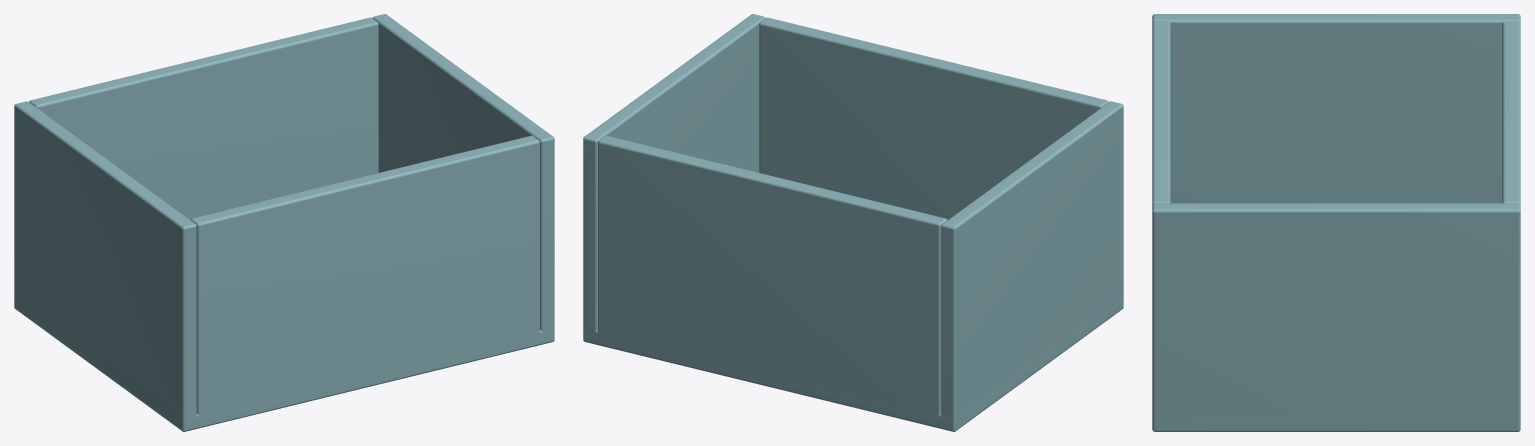
The model's file is BASKET.glb.
The picture shows the model from 3 angles, left to right: view 1: azimuth 30°, elevation 25°; view 2: azimuth 150°, elevation 25°; view 3: azimuth 270°, elevation 25°; orthographic projection. The views are drawn at different scales.
Visible parts, largest first — view 1: BASKET/0003_panel, BASKET/0004_panel, BASKET/0001_panel, BASKET/0002_panel, BASKET/0000_panel; view 2: BASKET/0004_panel, BASKET/0003_panel, BASKET/0001_panel, BASKET/0002_panel, BASKET/0000_panel; view 3: BASKET/0002_panel, BASKET/0001_panel, BASKET/0000_panel, BASKET/0003_panel, BASKET/0004_panel.
Boxes of the visible parts, x1,y1,x2,y2 form: BASKET/0003_panel: (190, 135, 539, 415); BASKET/0004_panel: (29, 17, 378, 219); BASKET/0001_panel: (14, 101, 196, 419); BASKET/0002_panel: (372, 14, 554, 332); BASKET/0000_panel: (14, 297, 554, 431); BASKET/0004_panel: (598, 135, 947, 415); BASKET/0003_panel: (759, 17, 1108, 219); BASKET/0001_panel: (941, 101, 1123, 419); BASKET/0002_panel: (583, 14, 765, 332); BASKET/0000_panel: (583, 297, 1123, 431); BASKET/0002_panel: (1152, 203, 1520, 418); BASKET/0001_panel: (1152, 14, 1520, 203); BASKET/0000_panel: (1152, 418, 1520, 431); BASKET/0003_panel: (1152, 21, 1170, 204); BASKET/0004_panel: (1502, 21, 1520, 204).
Bounding box in the file's own units: 0.38 × 0.2 × 0.3.
